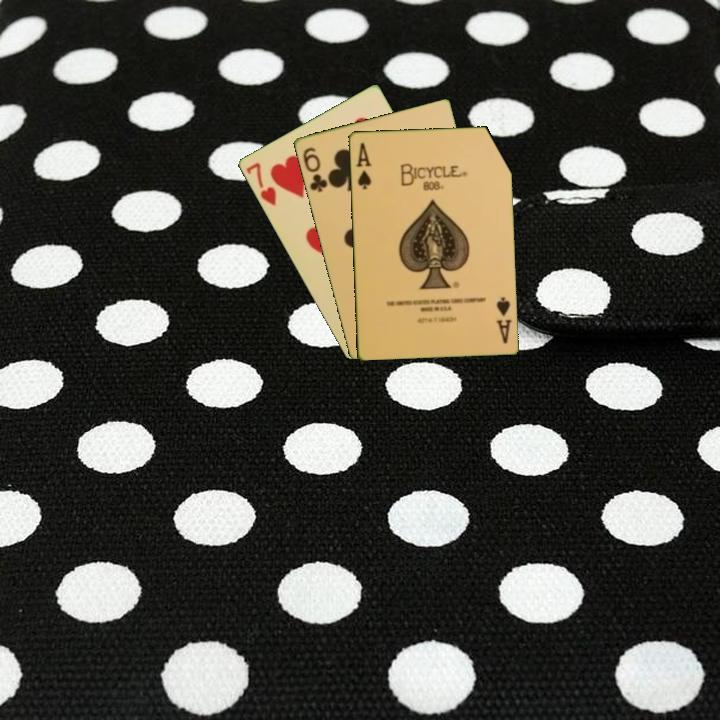6c: (299, 143, 330, 195)
7h: (242, 159, 279, 209)
As: (492, 293, 514, 347), (352, 139, 374, 192)
